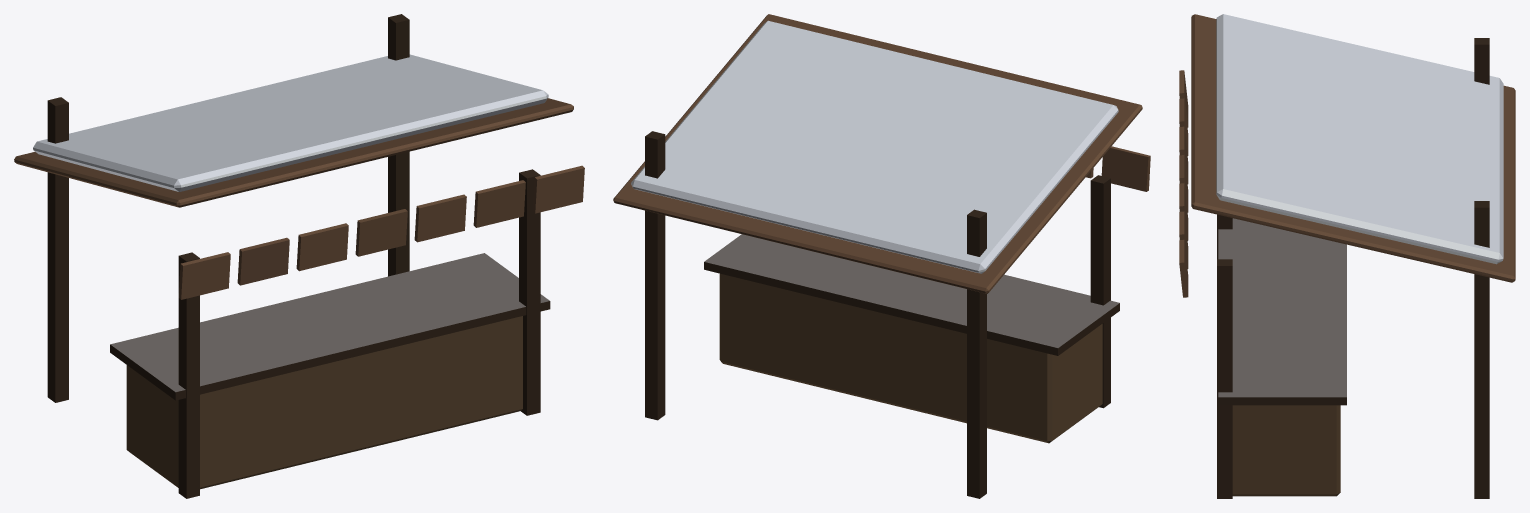
Rendered from village_stall_brown.glb.
3 views of the same model, side by side, from view 1: azimuth 30°, elevation 25°; view 2: azimuth 150°, elevation 25°; view 3: azimuth 270°, elevation 25° (orthographic). The views are drawn at different scales.
Parts seen in each view (by area): view 1: village_stall_brown; view 2: village_stall_brown; view 3: village_stall_brown.
Boxes of the visible parts, <box> form: village_stall_brown: <box>14,14,584,498</box>; village_stall_brown: <box>613,14,1150,498</box>; village_stall_brown: <box>1179,14,1515,498</box>.
Size of the model in its own units: 3.54 by 2.68 by 2.62.
